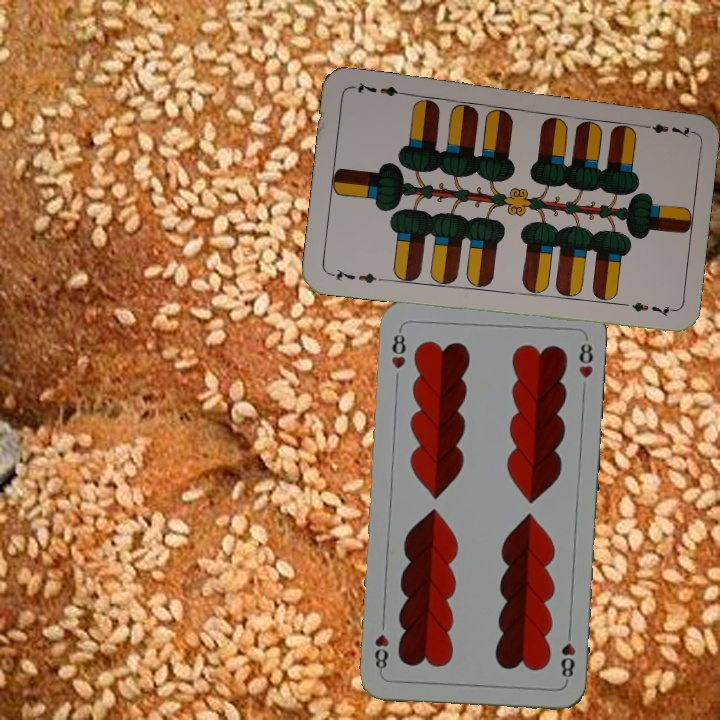E7: (326, 264, 385, 286), (635, 119, 694, 140)
H8: (557, 625, 578, 685), (387, 326, 408, 372)
